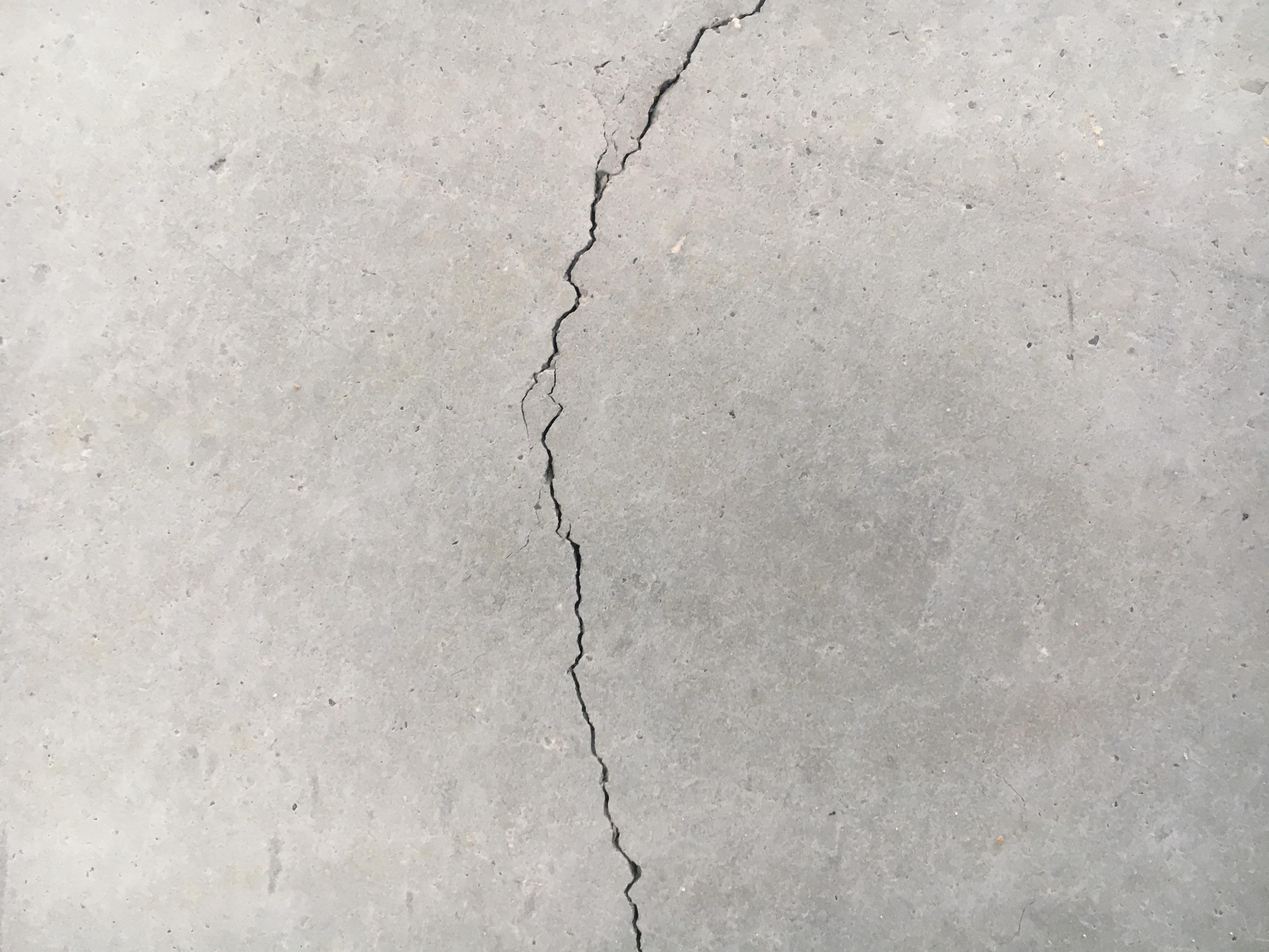Vertical Crack: (519, 1, 766, 948)
